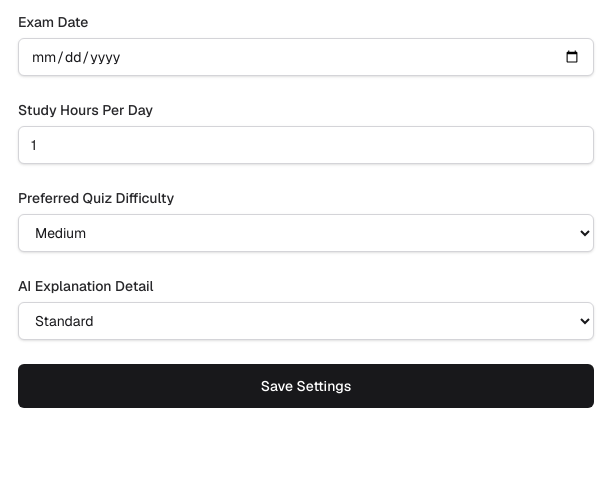
Test: SettingsForm › rejects study hours outside the allowed range
The width and height of the screenshot is (613, 477).
Replace the text in the number field labelled "Study Hours Per Day" with "15" at (306, 145), box x1=18 y1=126 x2=594 y2=164
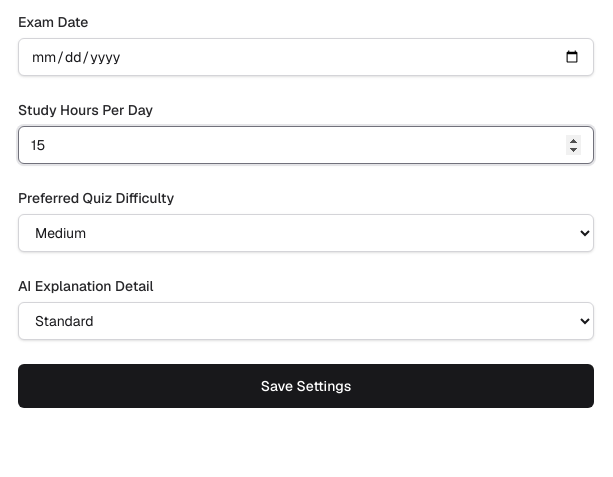
Click the button "Save Settings" at (306, 386), box x1=18 y1=364 x2=594 y2=408
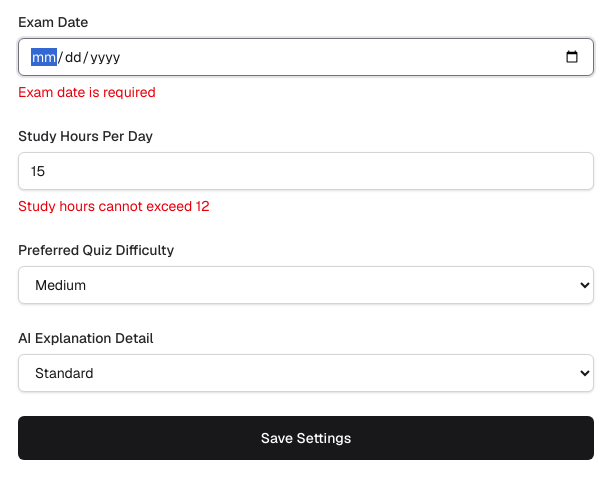
Now the text "Study hours cannot exceed 12" is shown, box x1=18 y1=197 x2=210 y2=215
